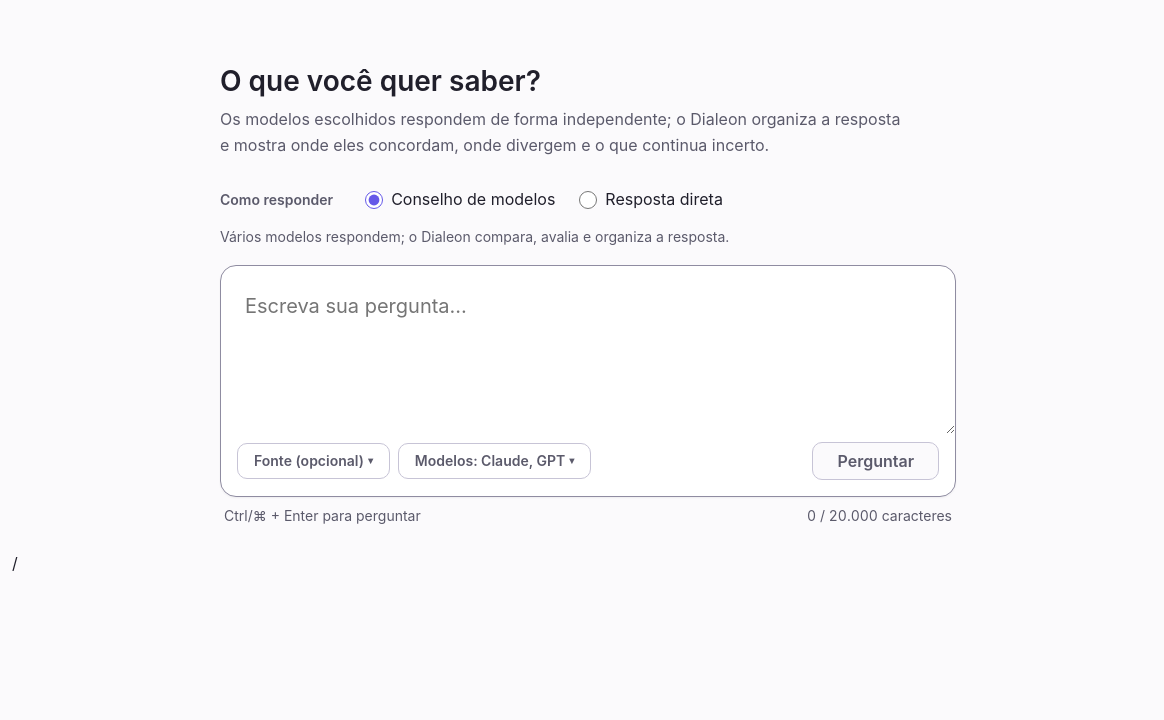
Test: Home -- envio de uma resposta direta › provider_prerequisites_missing: aviso de validação com recarga da lista, sem reenvio
Expected: the button "Modelos: Claude, GPT ▾" is shown, [398,443,591,479]
Click the radio button labelled "Resposta direta" at coordinates (588, 200), box [579,191,597,209]
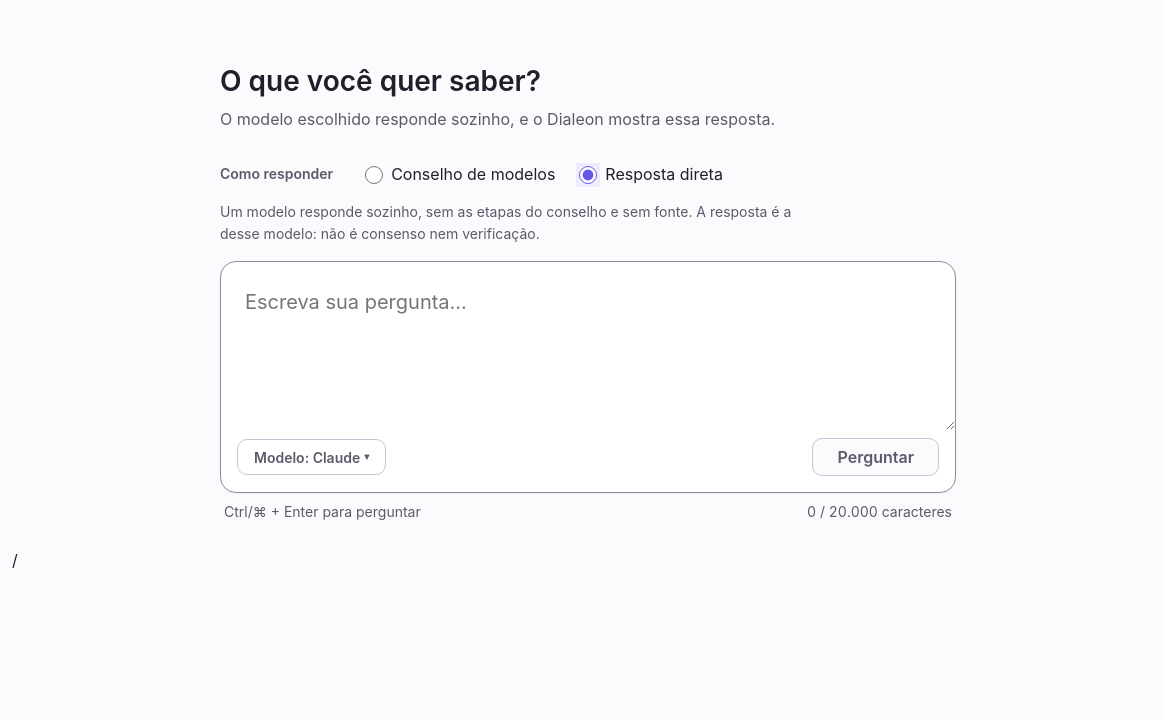
Type "q" into the text box named "faça uma pergunta" at coordinates (588, 346), box [221,262,955,430]
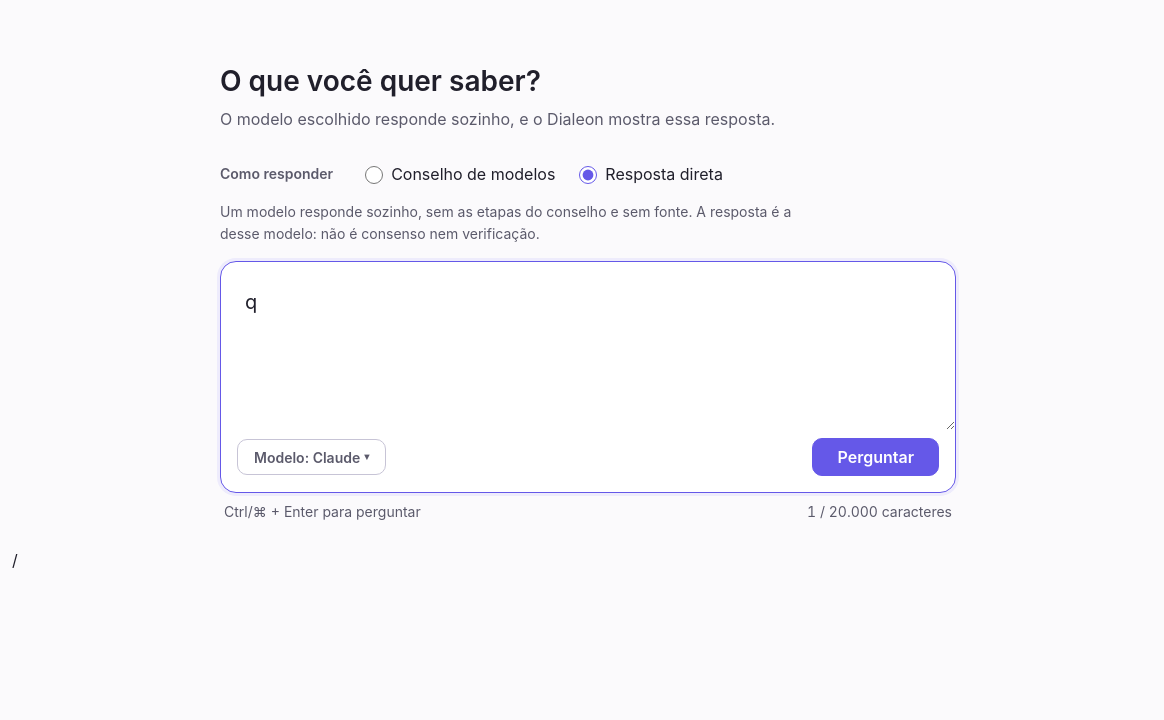
Click the button "Perguntar" at coordinates (876, 457), box [812,438,939,476]
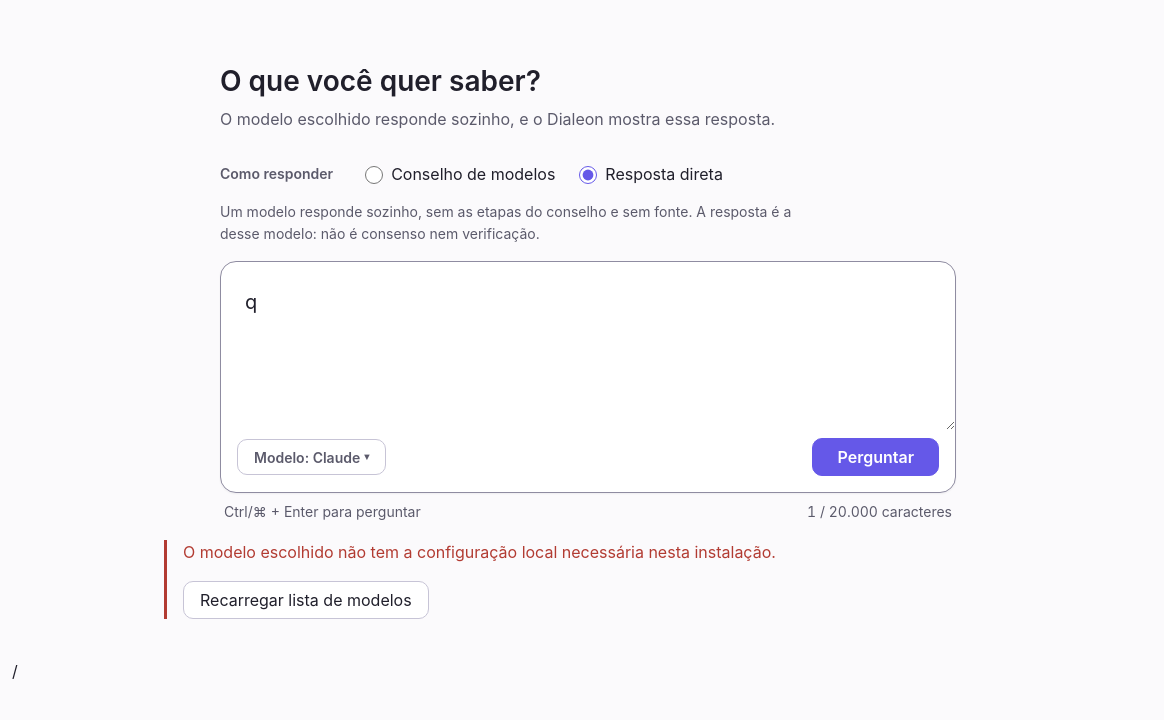
Now the message shows "não tem a configuração local necessária", box [183,542,776,562]
Now the button "Recarregar lista de modelos" is shown, box [183,581,429,619]
